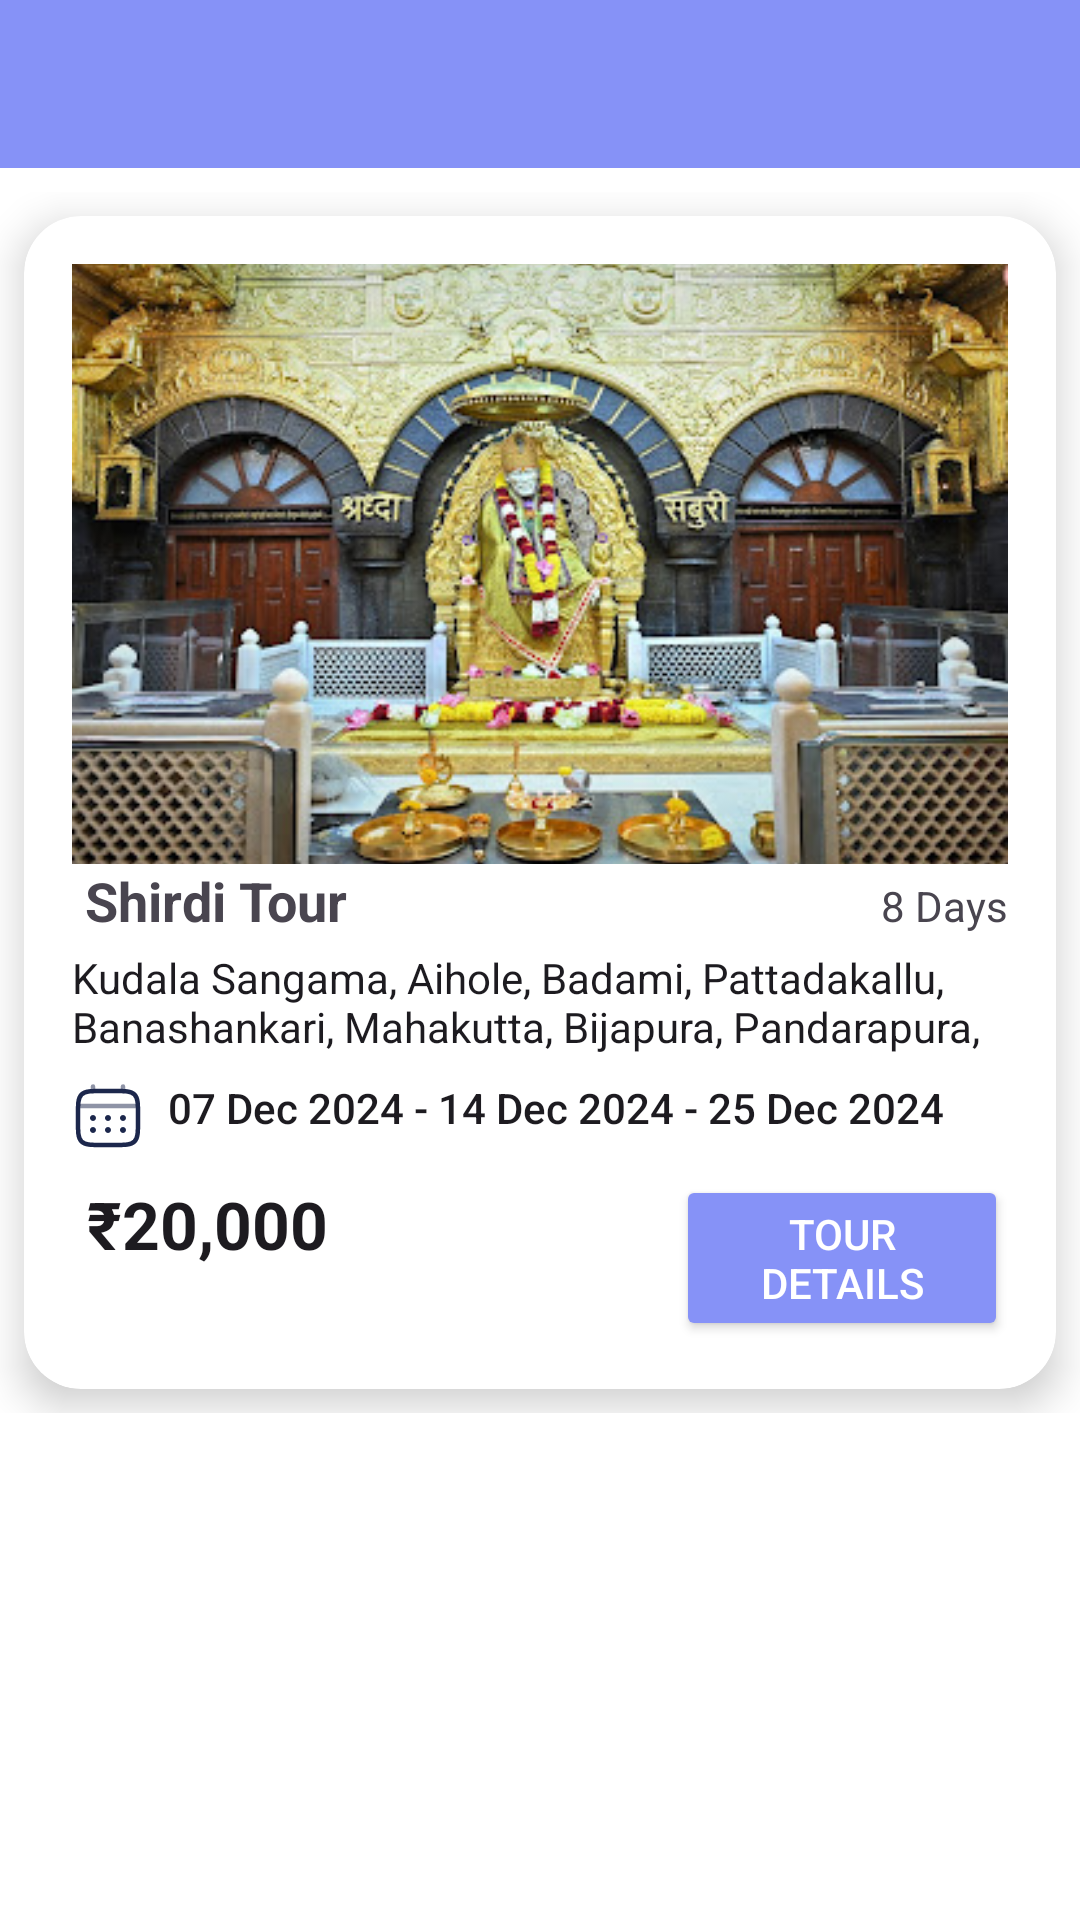

Point at icon controls on the screen. Image size 1080px×1920px, points as [x,y].
Calendar Icon: [108,1116]
